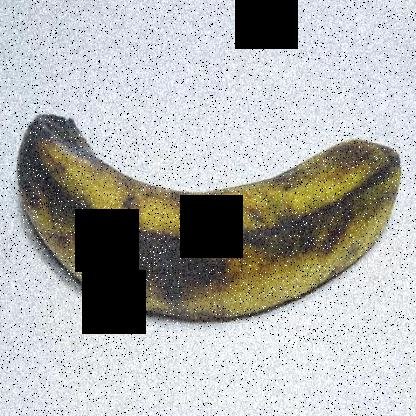overripe: (6, 79, 415, 343)
